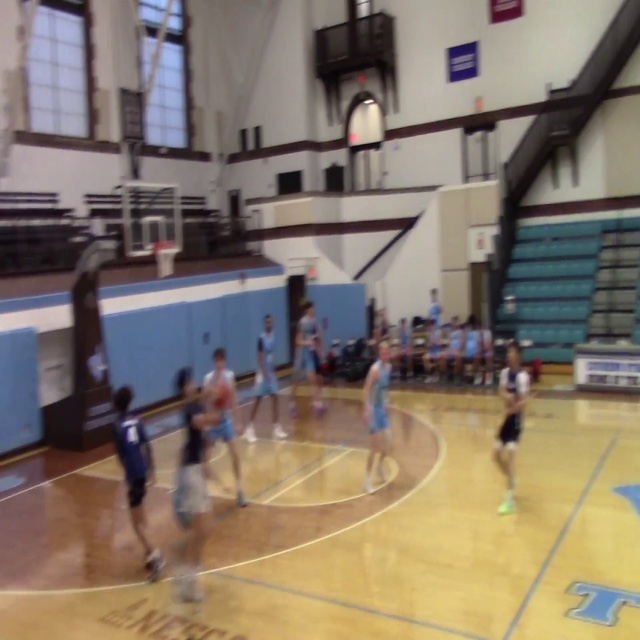Basketball: (213, 381, 230, 409)
